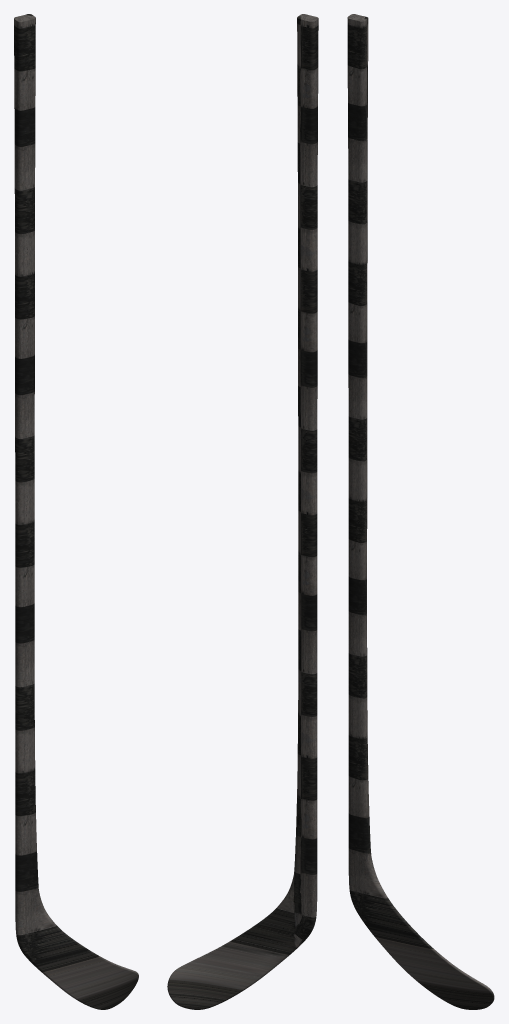
Rendered from P85-SBO.glb.
The picture shows the model from 3 angles, left to right: view 1: azimuth 30°, elevation 25°; view 2: azimuth 150°, elevation 25°; view 3: azimuth 330°, elevation 25°; orthographic projection. The views are drawn at different scales.
Visible parts, largest first — view 1: geometry_0; view 2: geometry_0; view 3: geometry_0.
Boxes of the visible parts, x1,y1,x2,y2 form: geometry_0: (14, 14, 138, 1009); geometry_0: (167, 14, 318, 1009); geometry_0: (347, 14, 494, 1009).
Size of the model in its own units: 230 by 1650 by 61.45.
Materials: 1 (1 with a texture image).
